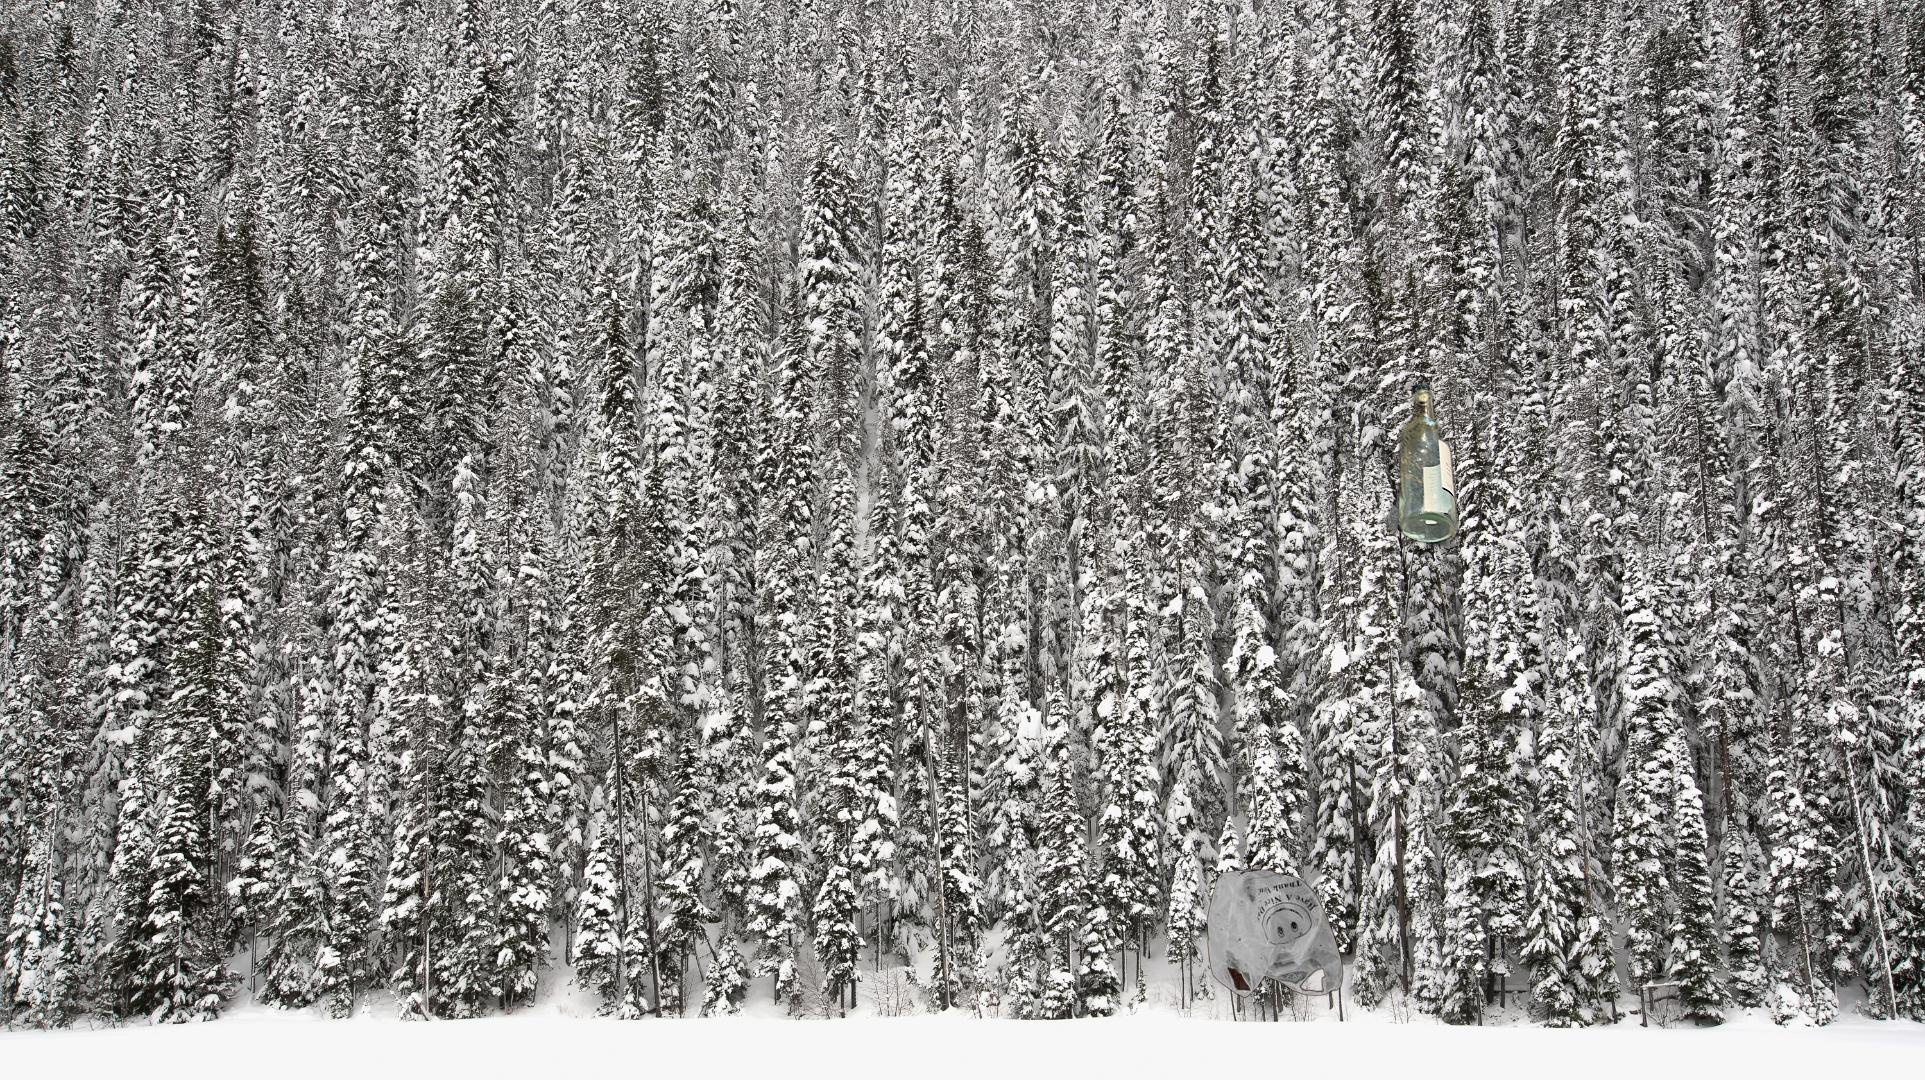glass: (1382, 375, 1464, 554)
plastic-bag: (1107, 831, 1346, 999)
